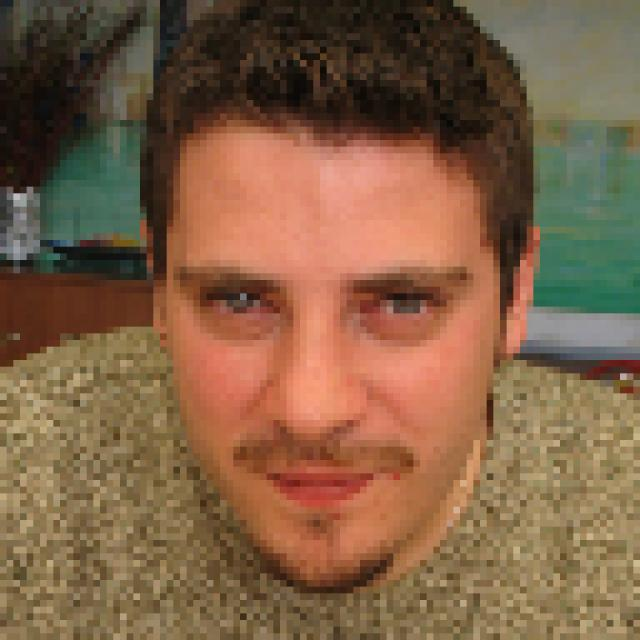happy: (166, 121, 497, 619)
